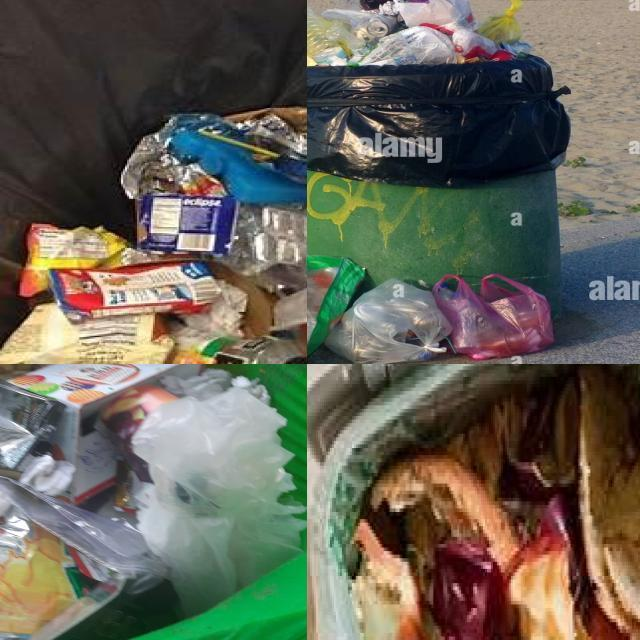Garbage: (0, 364, 307, 640), (0, 103, 307, 364), (353, 364, 640, 640), (307, 256, 555, 364), (307, 0, 531, 66)
Plastic: (221, 206, 307, 293)
Plastic_Bag: (127, 378, 307, 615), (326, 279, 452, 364), (433, 274, 555, 359), (307, 256, 365, 356), (360, 26, 459, 65), (395, 0, 476, 29), (322, 9, 371, 56), (478, 0, 523, 44), (452, 29, 499, 59), (360, 0, 393, 10), (8, 422, 12, 427)
Plastic_bottle: (168, 327, 307, 364), (307, 7, 352, 65)
Plastic_wraper: (0, 478, 167, 640), (120, 109, 307, 199), (0, 303, 174, 364), (53, 261, 219, 321), (20, 224, 126, 298), (0, 379, 63, 470), (113, 460, 137, 514)
Tetrapack: (10, 364, 205, 502)
can: (365, 14, 397, 40)
